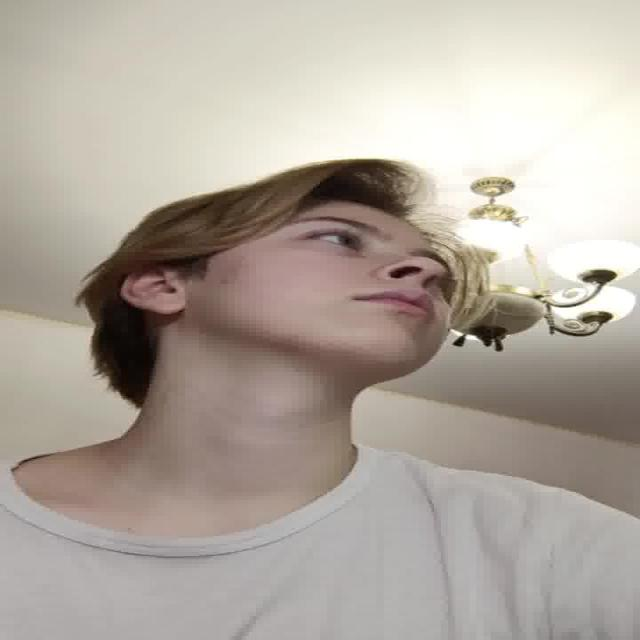earlobe: (135, 299, 189, 317)
eye: (300, 228, 369, 251)
nose: (378, 268, 436, 294)
wholeear: (118, 264, 186, 315)
